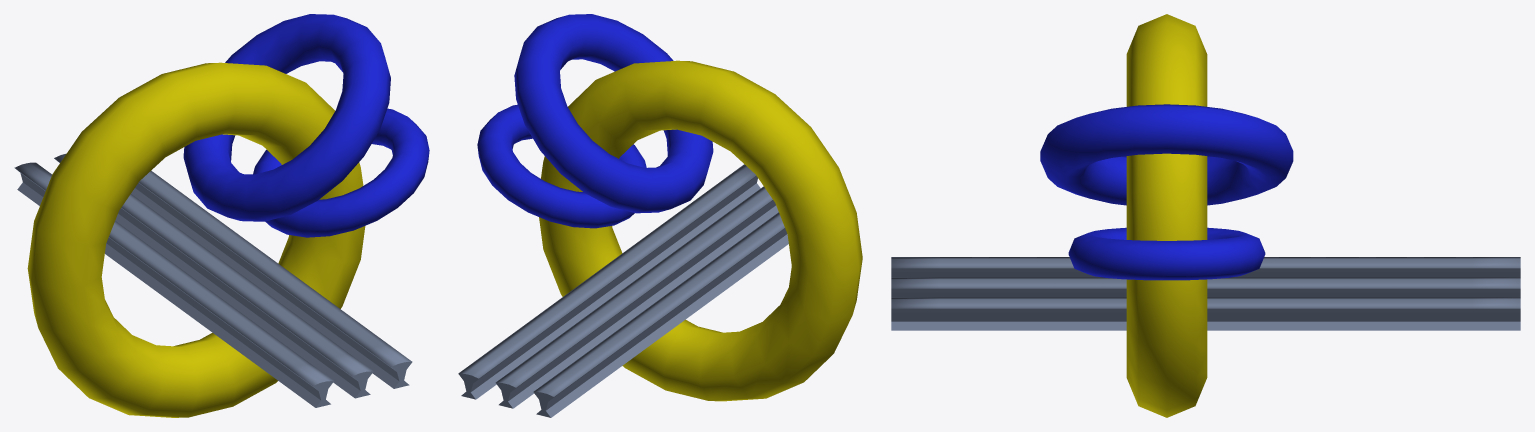
The model's file is space3.fbx.
3 views of the same model, side by side, from view 1: azimuth 30°, elevation 25°; view 2: azimuth 150°, elevation 25°; view 3: azimuth 270°, elevation 25° (orthographic). The views are drawn at different scales.
Parts seen in each view (by area): view 1: Cube; view 2: Cube; view 3: Cube.
Boxes of the visible parts, box(x1,y1,x2,y2) form: Cube: box(14, 14, 429, 417); Cube: box(458, 14, 862, 417); Cube: box(891, 14, 1520, 417).
Bounding box in the file's own units: 3566 × 3111 × 4790.
